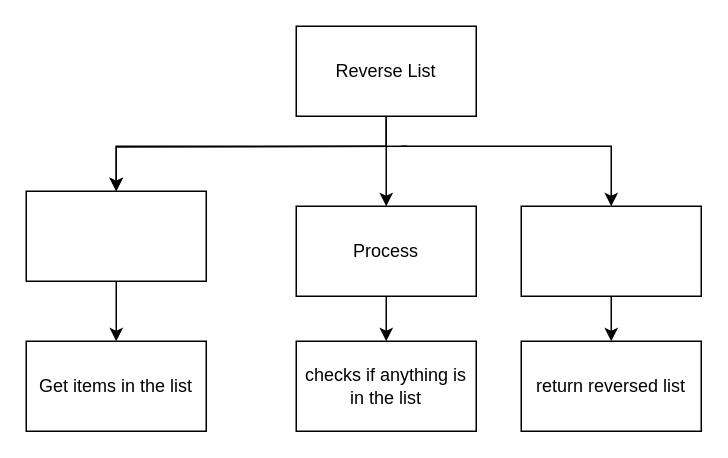
This 728x458 diagram has some shape labels left out. The centre of each missing label's shape, as x and y in pixels:
Input: the point at 115,235
Output: the point at 610,250
